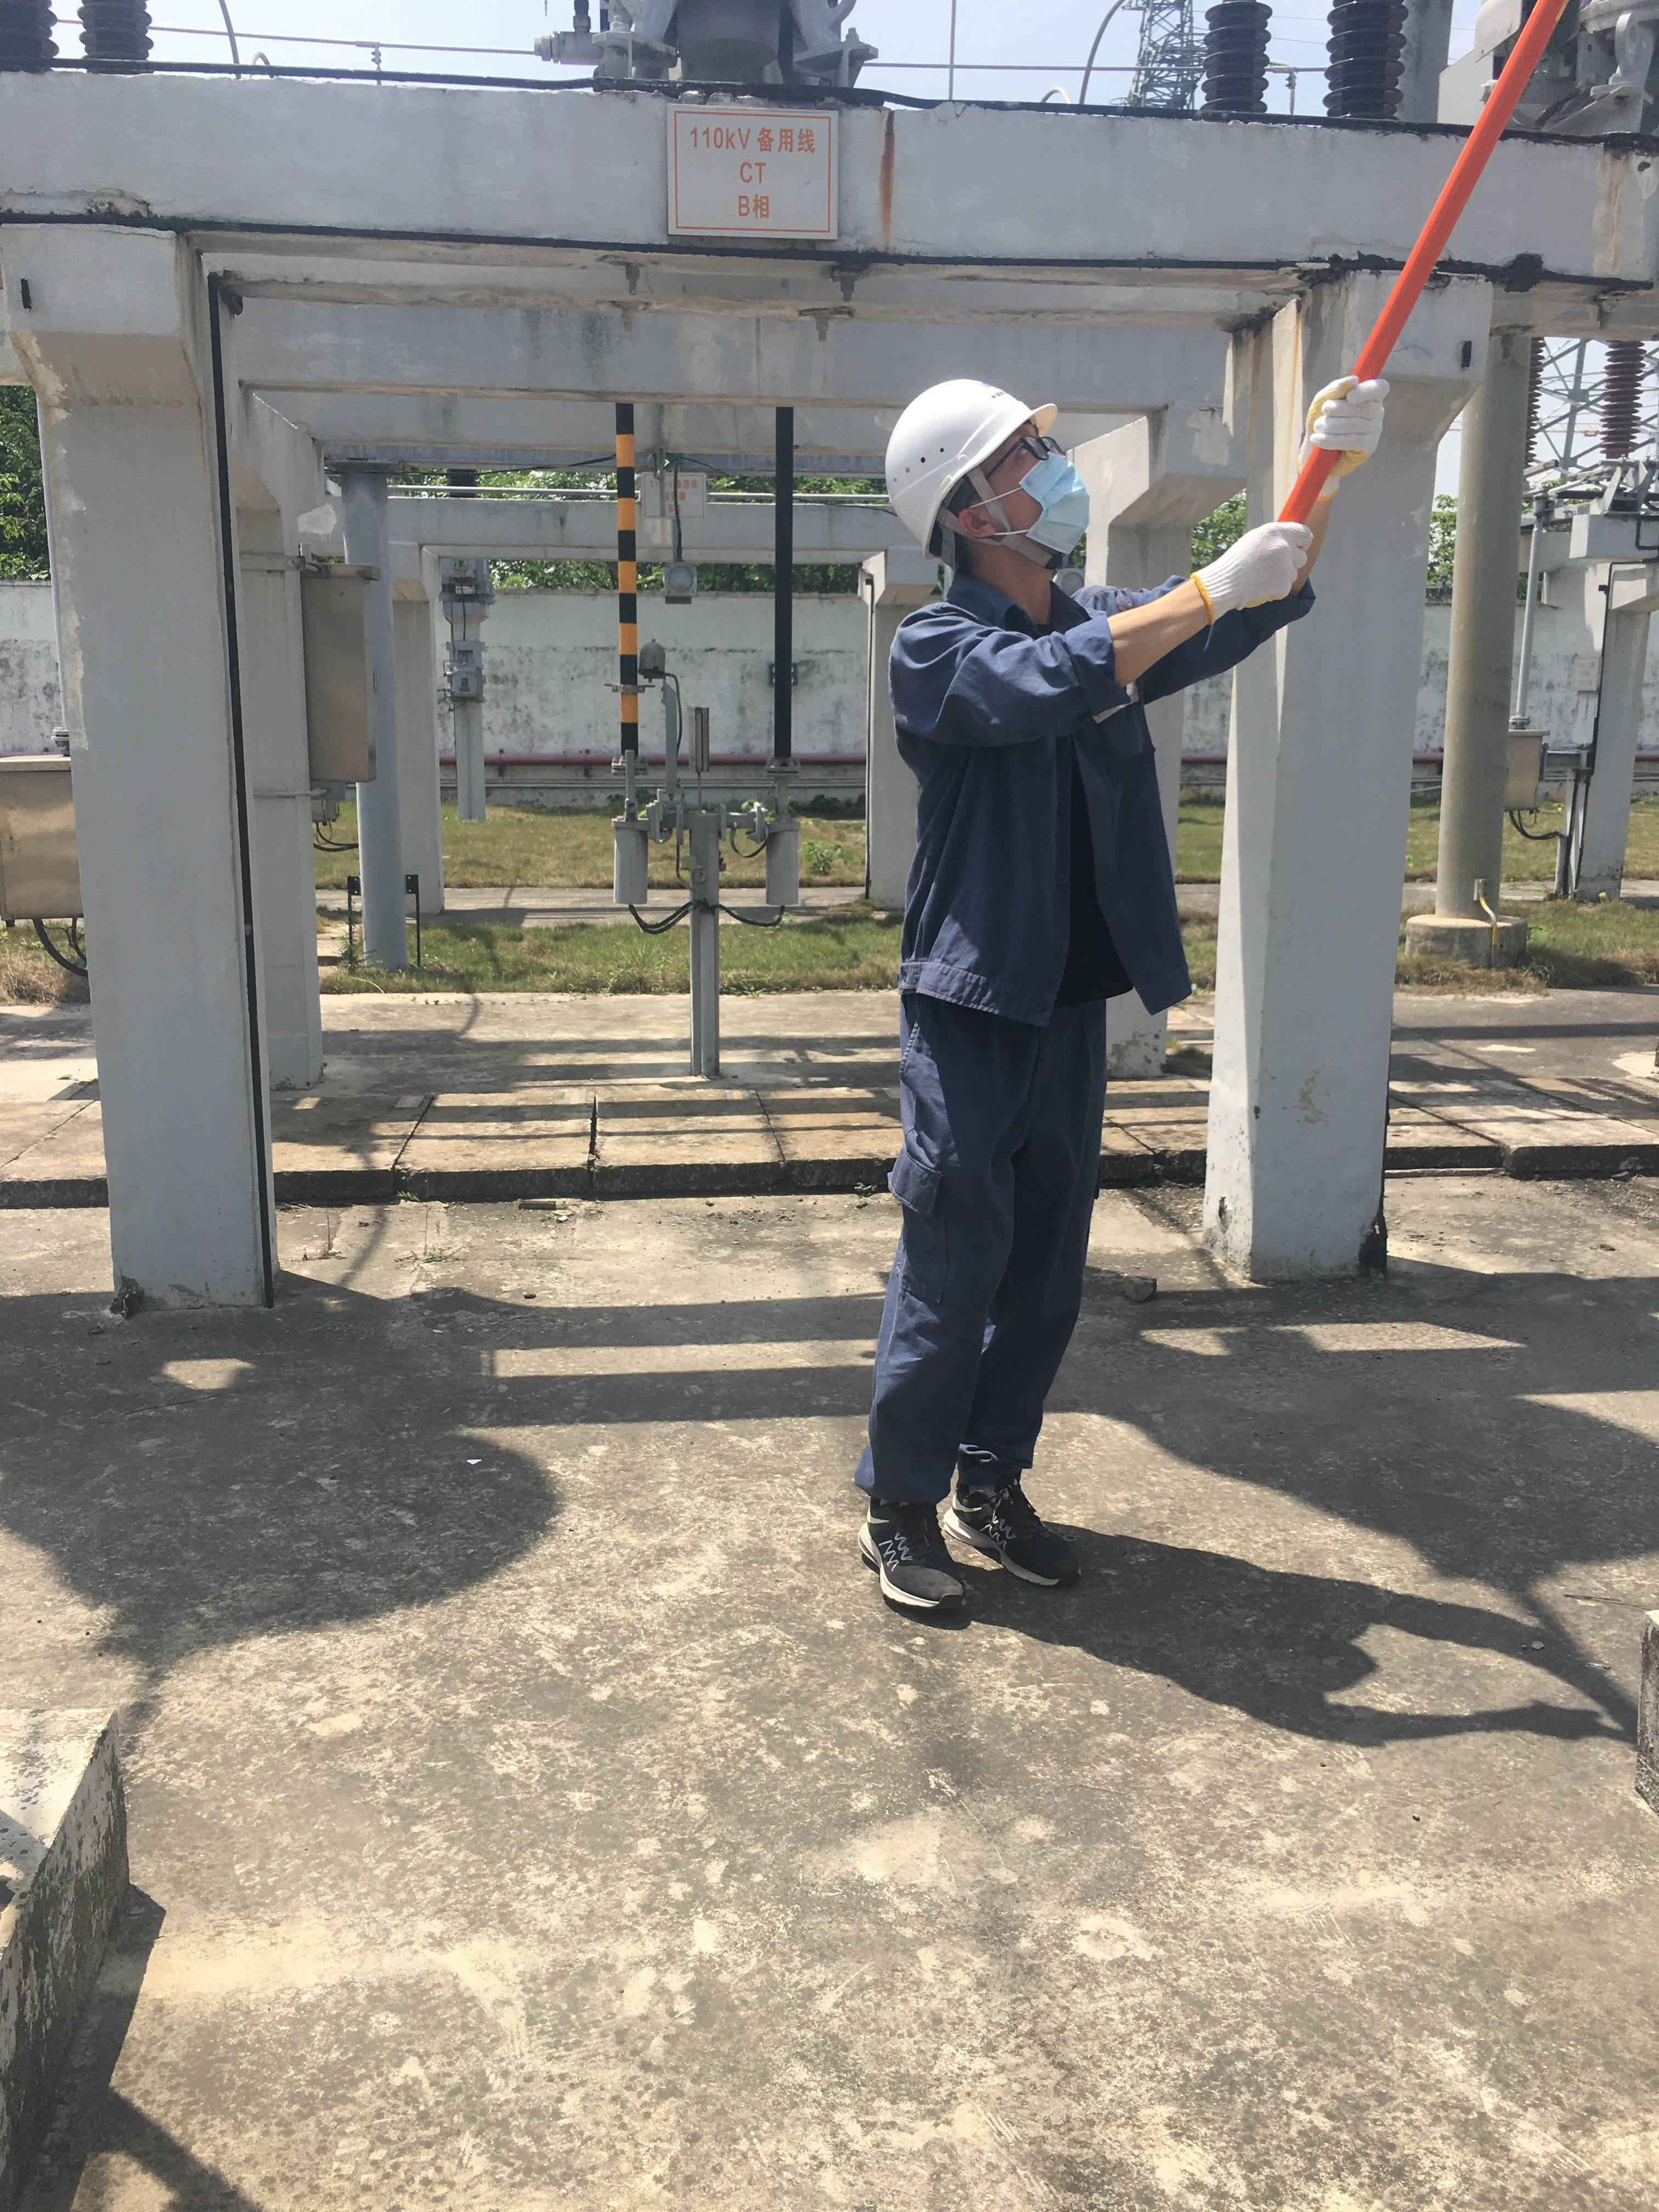downsuit: (850, 1014, 1114, 1496)
upsuit: (885, 594, 1190, 1007)
wrongtop: (999, 599, 1194, 686)
